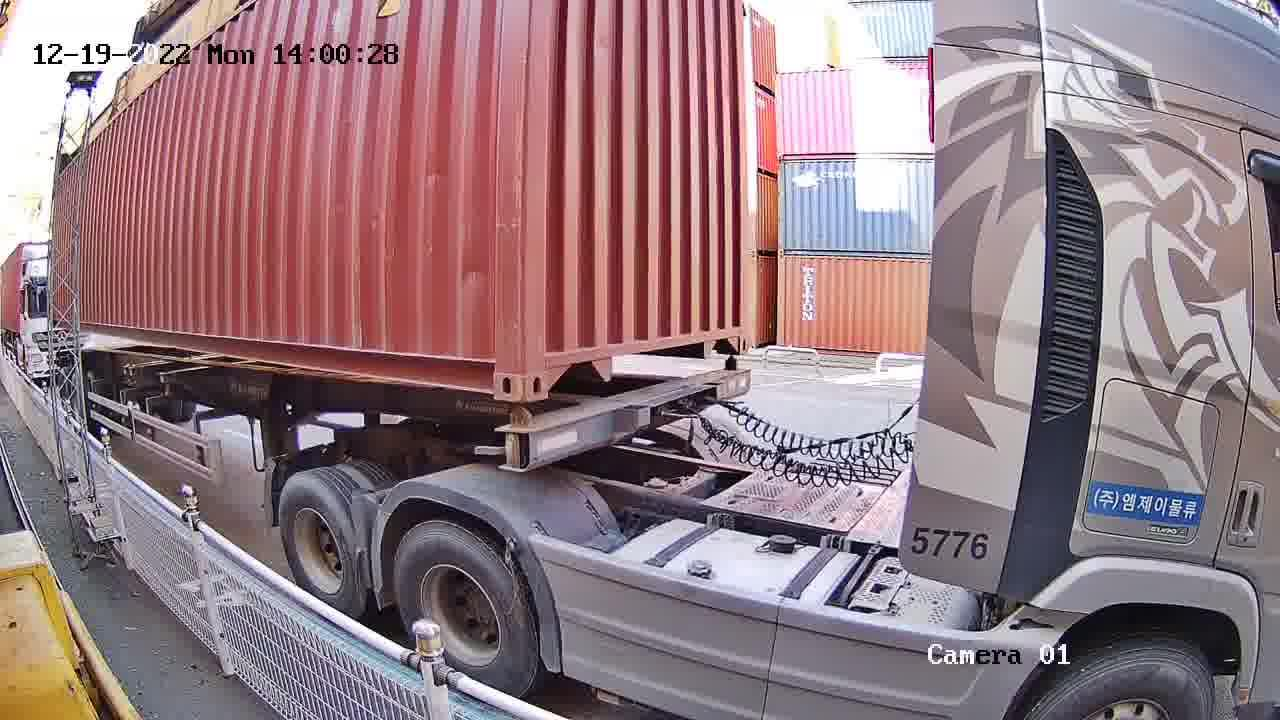Chassis: (501, 367, 747, 471)
Cone: (497, 409, 531, 469), (722, 358, 745, 390)
Hole_L: (518, 342, 572, 404)
Hole_R: (458, 338, 524, 404), (723, 314, 750, 356)
Tire: (391, 523, 536, 693), (277, 475, 359, 610)
